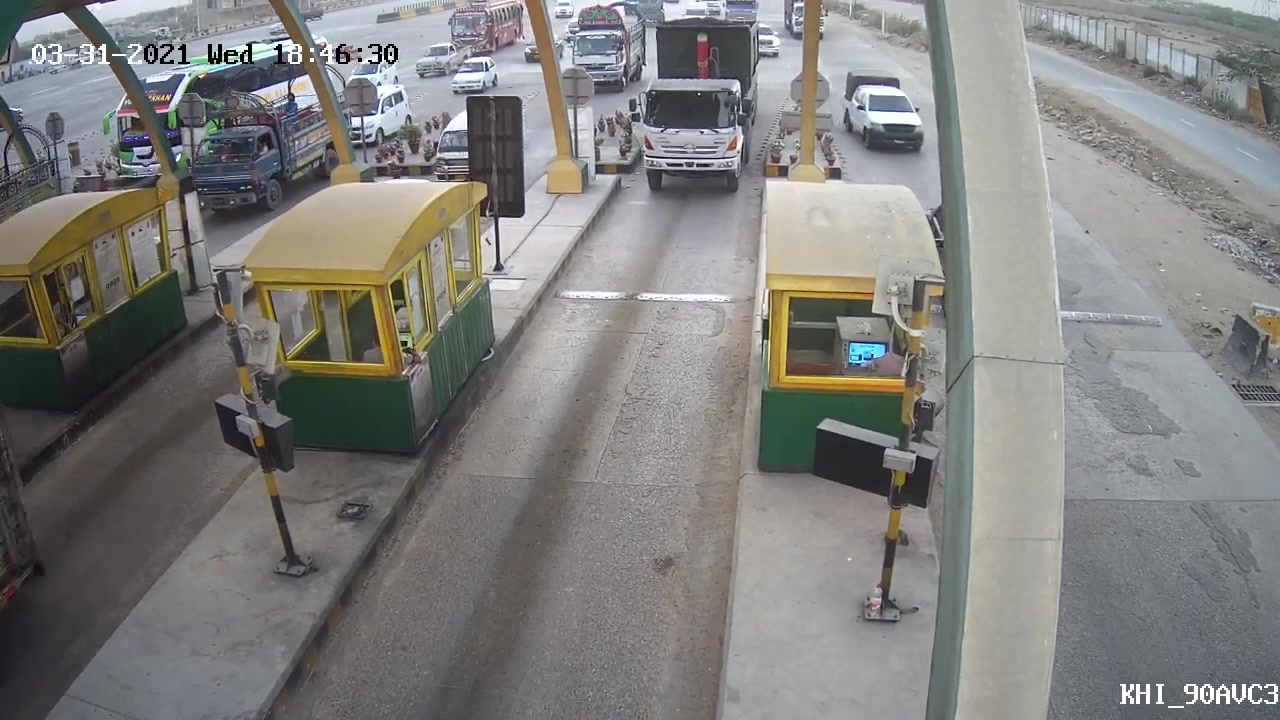F6: (625, 5, 764, 192)
